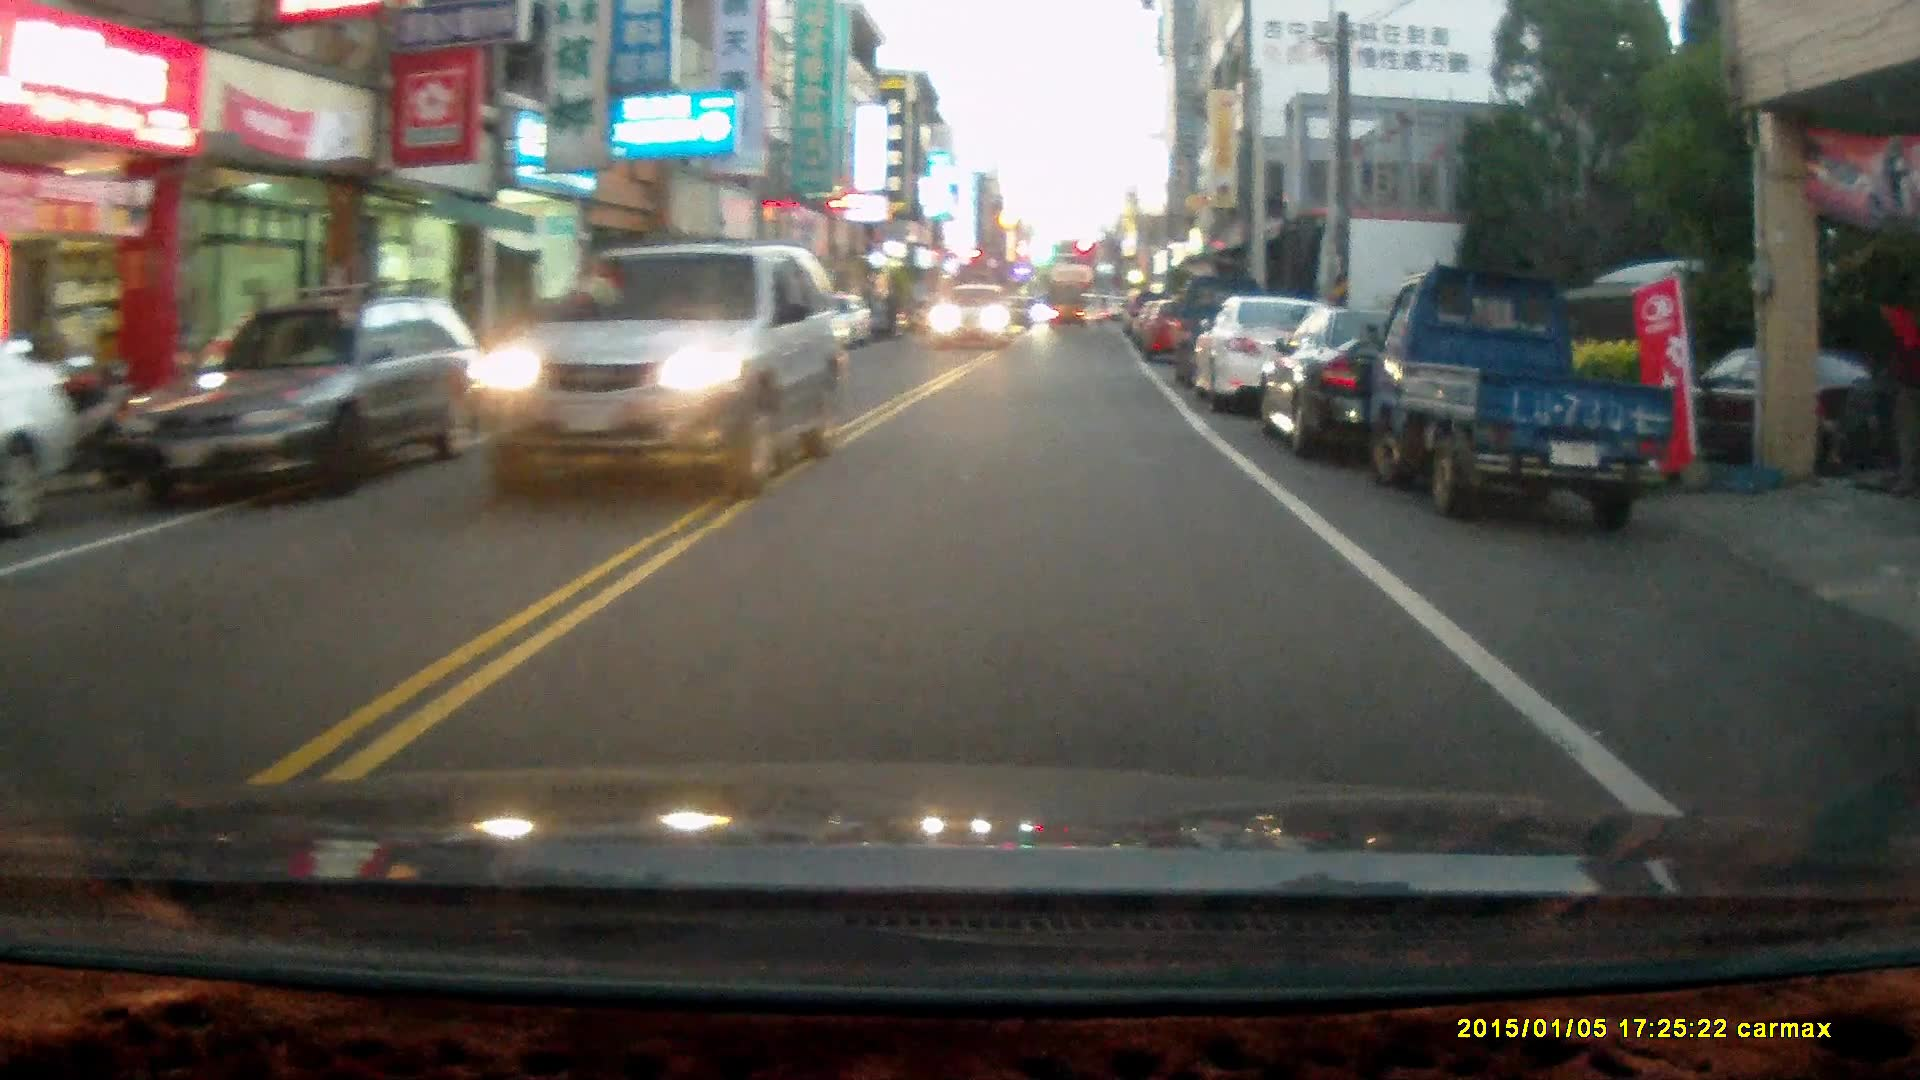pedestrian: (1863, 292, 1920, 497)
vehicle: (463, 238, 859, 499), (1366, 270, 1691, 540), (109, 285, 502, 504), (1263, 309, 1514, 463), (1186, 301, 1350, 416), (932, 286, 1015, 355), (1042, 287, 1086, 336)
